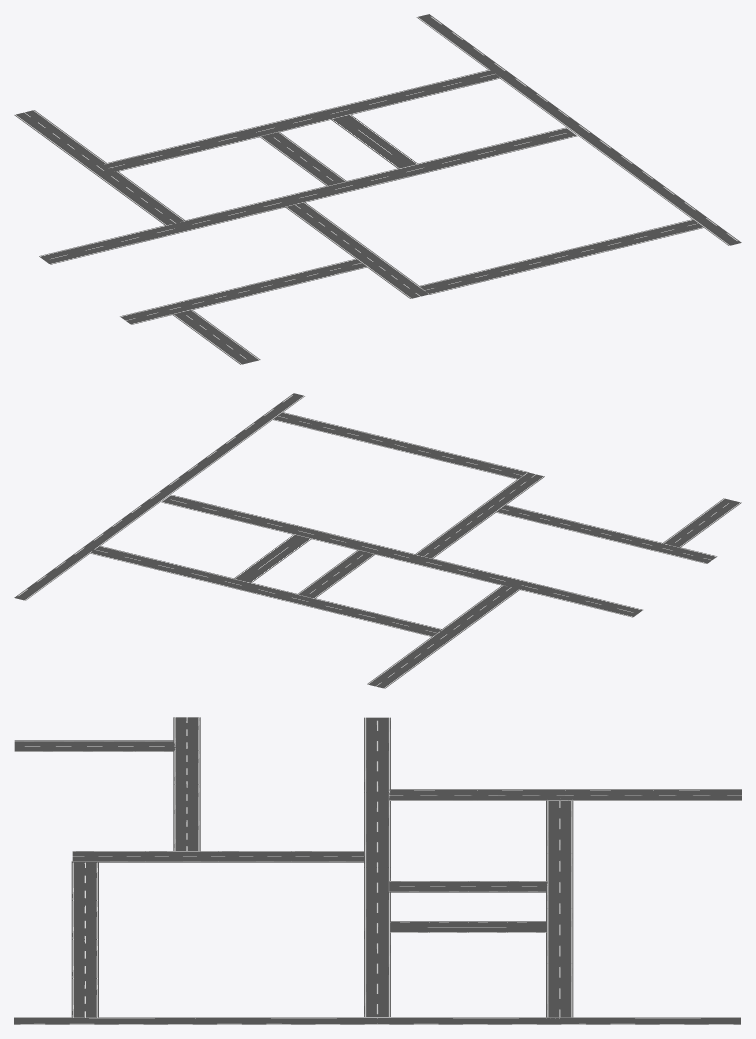
Rendered from road.fbx.
3 views of the same model, one above another, from view 1: azimuth 30°, elevation 25°; view 2: azimuth 150°, elevation 25°; view 3: azimuth 270°, elevation 25° (orthographic). The views are drawn at different scales.
Parts seen in each view (by area): view 1: Plane016, Plane019, Plane043, Plane022, Plane017, Plane024, Plane023, Plane025, Plane015, Plane045; view 2: Plane016, Plane019, Plane043, Plane022, Plane017, Plane024, Plane023, Plane025, Plane045, Plane015; view 3: Plane016, Plane019, Plane043, Plane022, Plane017, Plane024, Plane023, Plane025, Plane015, Plane045.
Boxes of the visible parts, bbox=[...] form: Plane016: bbox=[39, 127, 577, 264]; Plane019: bbox=[104, 69, 500, 171]; Plane043: bbox=[416, 14, 741, 245]; Plane022: bbox=[420, 219, 703, 294]; Plane017: bbox=[14, 110, 184, 225]; Plane024: bbox=[120, 259, 366, 324]; Plane023: bbox=[285, 202, 430, 298]; Plane025: bbox=[173, 310, 260, 364]; Plane015: bbox=[259, 132, 346, 185]; Plane045: bbox=[331, 115, 417, 168]; Plane016: bbox=[161, 495, 642, 617]; Plane019: bbox=[90, 546, 441, 636]; Plane043: bbox=[14, 393, 304, 600]; Plane022: bbox=[273, 412, 528, 479]; Plane017: bbox=[367, 585, 520, 688]; Plane024: bbox=[496, 505, 717, 563]; Plane023: bbox=[415, 472, 544, 558]; Plane025: bbox=[662, 498, 741, 547]; Plane045: bbox=[234, 534, 311, 582]; Plane015: bbox=[298, 550, 375, 598]; Plane016: bbox=[364, 717, 390, 1016]; Plane019: bbox=[546, 798, 573, 1018]; Plane043: bbox=[14, 1017, 740, 1024]; Plane022: bbox=[71, 861, 98, 1017]; Plane017: bbox=[389, 789, 741, 800]; Plane024: bbox=[173, 717, 200, 850]; Plane023: bbox=[72, 851, 363, 862]; Plane025: bbox=[14, 740, 175, 751]; Plane015: bbox=[389, 881, 547, 892]; Plane045: bbox=[390, 921, 546, 932].
Size of the model in its own units: 7512 by 7513 by 0.
1 material, 1 textured.
